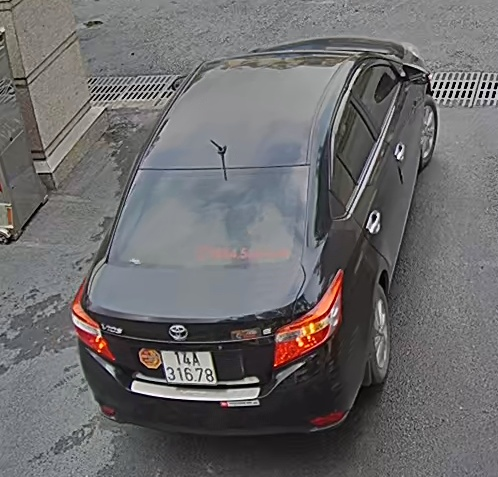vehicle plate: (155, 343, 222, 389)
